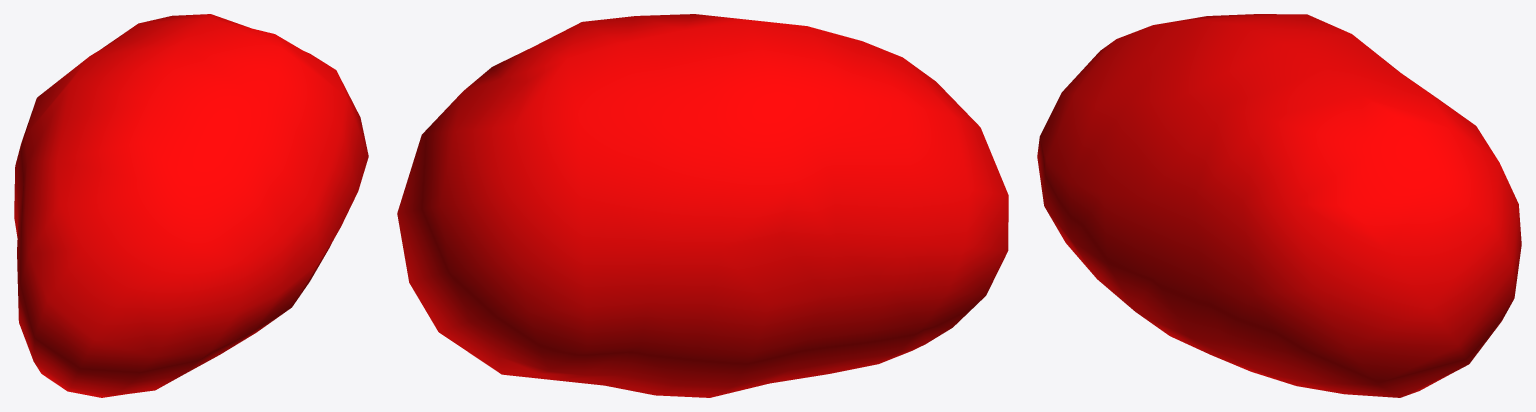
File: potato.fbx
3 renders of one model, left to right at view 1: azimuth 30°, elevation 25°; view 2: azimuth 150°, elevation 25°; view 3: azimuth 270°, elevation 25°, orthographic. The views are drawn at different scales.
Visible parts, largest first — view 1: potato_b6; view 2: potato_b6; view 3: potato_b6.
Boxes of the visible parts, <box> form: potato_b6: <box>14,14,368,397</box>; potato_b6: <box>397,14,1008,397</box>; potato_b6: <box>1037,14,1521,397</box>.
Bounding box in the file's own units: 1337 × 926 × 1257.
